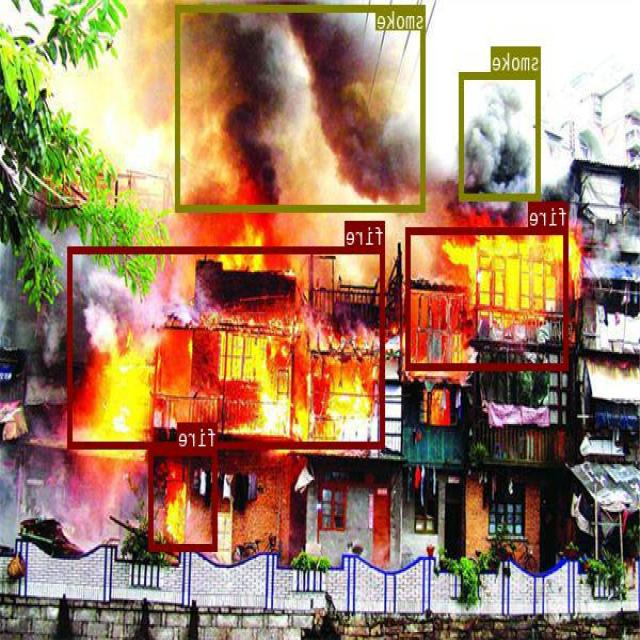fire: (69, 246, 385, 446), (407, 226, 569, 370), (150, 446, 218, 549)
smoke: (176, 3, 426, 210), (461, 71, 542, 200)
